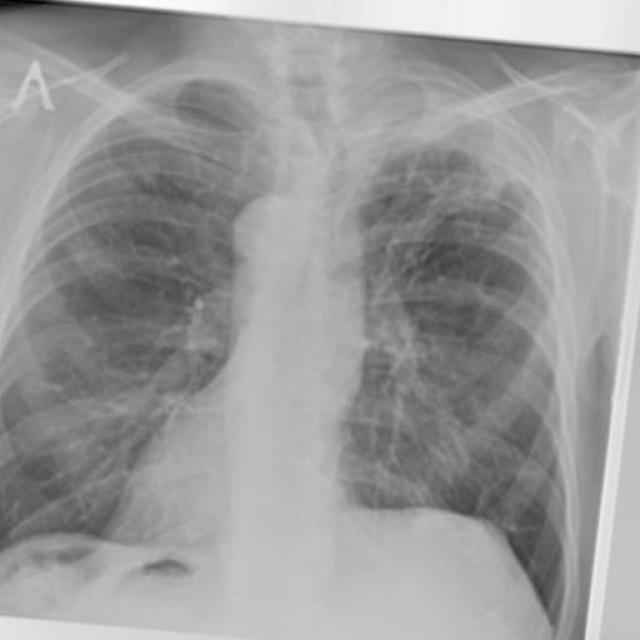tuberculosis: (0, 11, 640, 640)
